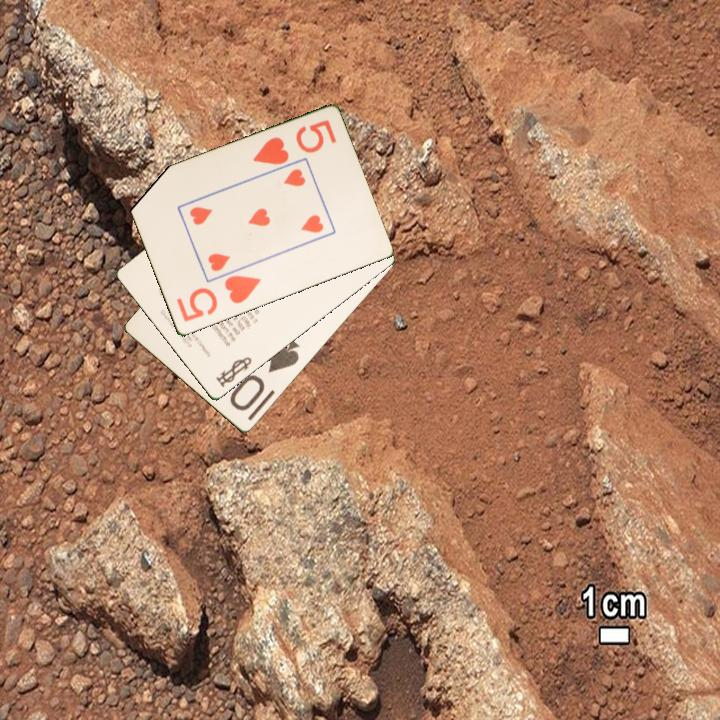10s: (226, 335, 303, 414)
5h: (172, 272, 264, 325), (249, 116, 339, 168)
JK: (212, 354, 255, 390)
